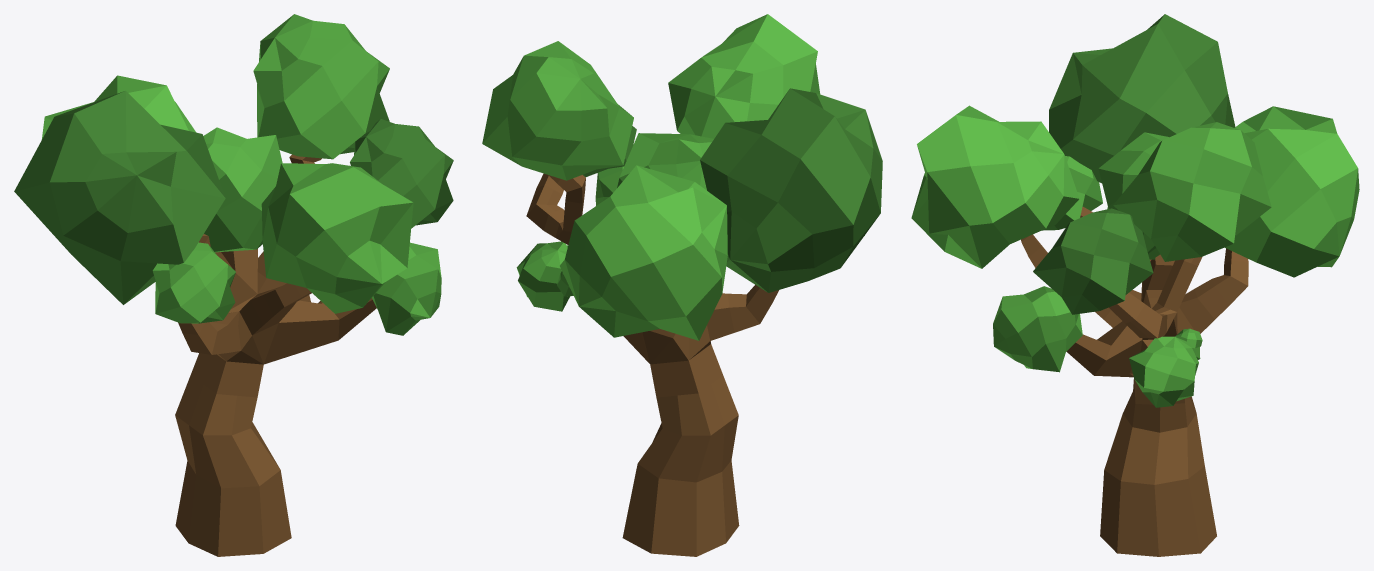
File: normalTree.glb
3 renders of one model, left to right at view 1: azimuth 30°, elevation 25°; view 2: azimuth 150°, elevation 25°; view 3: azimuth 270°, elevation 25°, orthographic. The views are drawn at different scales.
Visible parts, largest first — view 1: Leef, Trunk; view 2: Leef, Trunk; view 3: Leef, Trunk.
Boxes of the visible parts, x1,y1,x2,y2 form: Leef: [14, 14, 453, 335]; Trunk: [175, 154, 376, 556]; Leef: [482, 14, 882, 340]; Trunk: [526, 173, 778, 556]; Leef: [911, 14, 1359, 407]; Trunk: [1021, 207, 1248, 556].
Bounding box in the file's own units: 6.79 × 7.98 × 7.03.
